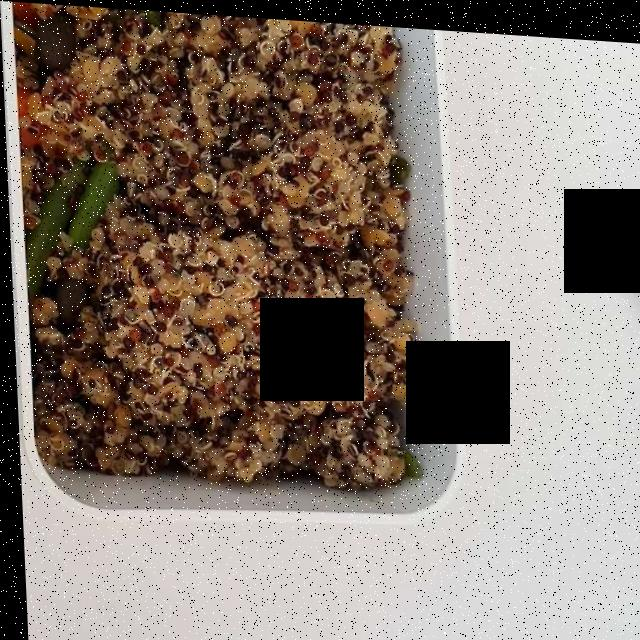french-beans: (21, 146, 115, 307)
pumpkin-seeds: (27, 4, 98, 342)
quinoa: (43, 5, 419, 479)
